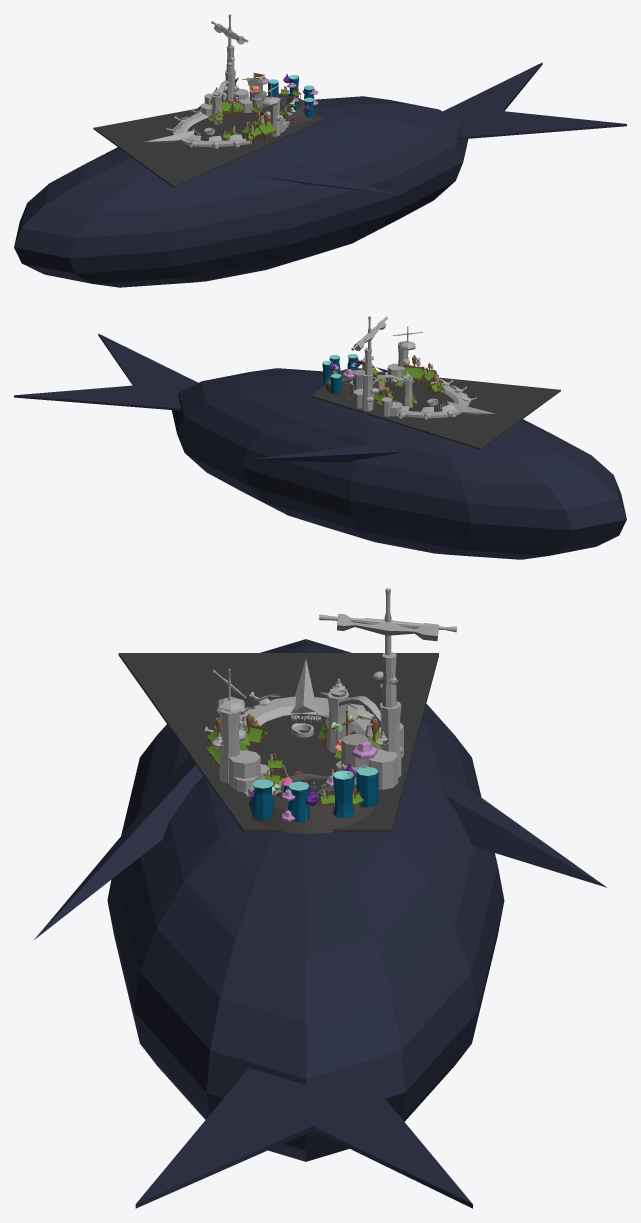
The model's file is Upgraded_Town.fbx.
3 views of the same model, one above another, from view 1: azimuth 30°, elevation 25°; view 2: azimuth 150°, elevation 25°; view 3: azimuth 270°, elevation 25° (orthographic). The views are drawn at different scales.
Parts seen in each view (by area): view 1: pasted__Whale, Floor, Hot_Pot, Shark_Tooth, Left_Sail, Rock_Blockade, Right_Sail; view 2: pasted__Whale, Floor, Hot_Pot, Left_Sail, Shark_Tooth, Rock_Blockade, Right_Sail; view 3: pasted__Whale, Floor, Hot_Pot, Left_Sail, Shark_Tooth, Rock_Blockade, Right_Sail.
Part boxes in pixels (x1=…): pasted__Whale: x1=14, y1=62, x2=626, y2=287; Floor: x1=93, y1=93, x2=323, y2=187; Hot_Pot: x1=208, y1=73, x2=318, y2=144; Shark_Tooth: x1=145, y1=108, x2=251, y2=148; Left_Sail: x1=211, y1=14, x2=248, y2=124; Rock_Blockade: x1=200, y1=89, x2=285, y2=133; Right_Sail: x1=262, y1=82, x2=281, y2=136; pasted__Whale: x1=14, y1=333, x2=626, y2=559; Floor: x1=311, y1=371, x2=560, y2=449; Hot_Pot: x1=322, y1=354, x2=444, y2=408; Left_Sail: x1=351, y1=316, x2=412, y2=413; Shark_Tooth: x1=399, y1=378, x2=495, y2=419; Rock_Blockade: x1=353, y1=363, x2=402, y2=416; Right_Sail: x1=393, y1=326, x2=422, y2=377; pasted__Whale: x1=34, y1=639, x2=606, y2=1208; Floor: x1=118, y1=653, x2=438, y2=832; Hot_Pot: x1=206, y1=710, x2=380, y2=834; Left_Sail: x1=319, y1=588, x2=456, y2=777; Shark_Tooth: x1=204, y1=659, x2=374, y2=737; Rock_Blockade: x1=228, y1=722, x2=403, y2=792; Right_Sail: x1=212, y1=669, x2=246, y2=783.
Bounding box in the file's own units: 266 × 102 × 116.
